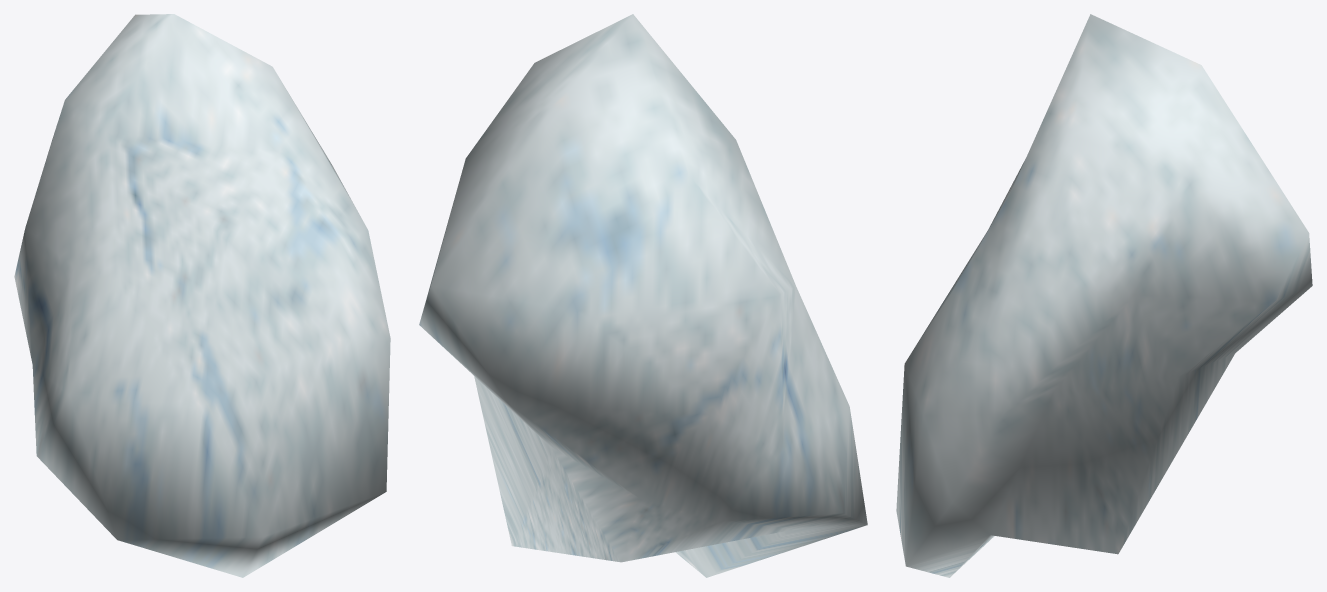
3 renders of one model, left to right at view 1: azimuth 30°, elevation 25°; view 2: azimuth 150°, elevation 25°; view 3: azimuth 270°, elevation 25°, orthographic. The views are drawn at different scales.
Parts seen in each view (by area): view 1: a71; view 2: a71; view 3: a71.
Part boxes in pixels (x1=…): a71: x1=14, y1=14, x2=390, y2=577; a71: x1=419, y1=14, x2=867, y2=577; a71: x1=896, y1=14, x2=1312, y2=577.
Bounding box in the file's own units: 435 × 680 × 456.
